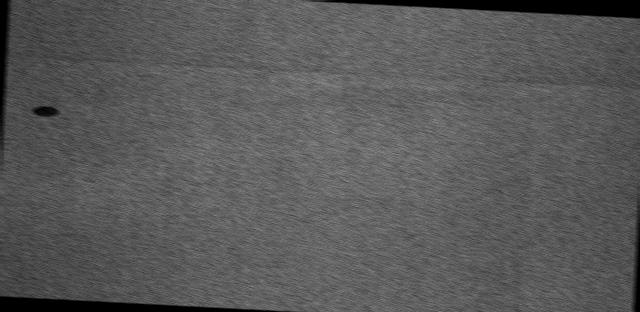punching_hole: (16, 95, 59, 122)
welding_line: (3, 43, 640, 101)
